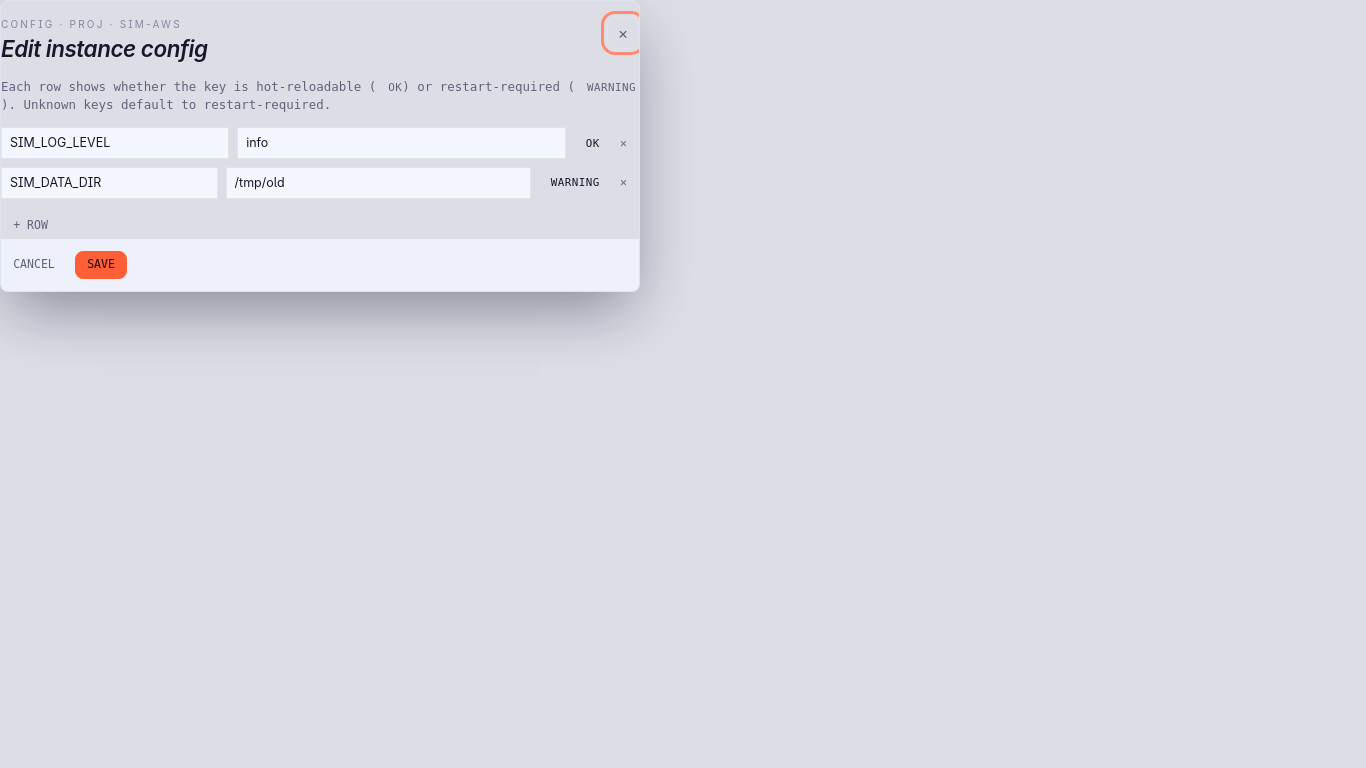
Test: ConfigEditModal › save → server classifies → UI offers Restart for restart-required change
// Edit the SIM_DATA_DIR value field.
Replace the text in the 4th field showing "/tmp/old" with "/tmp/new" at (378, 183), box [226, 167, 531, 199]
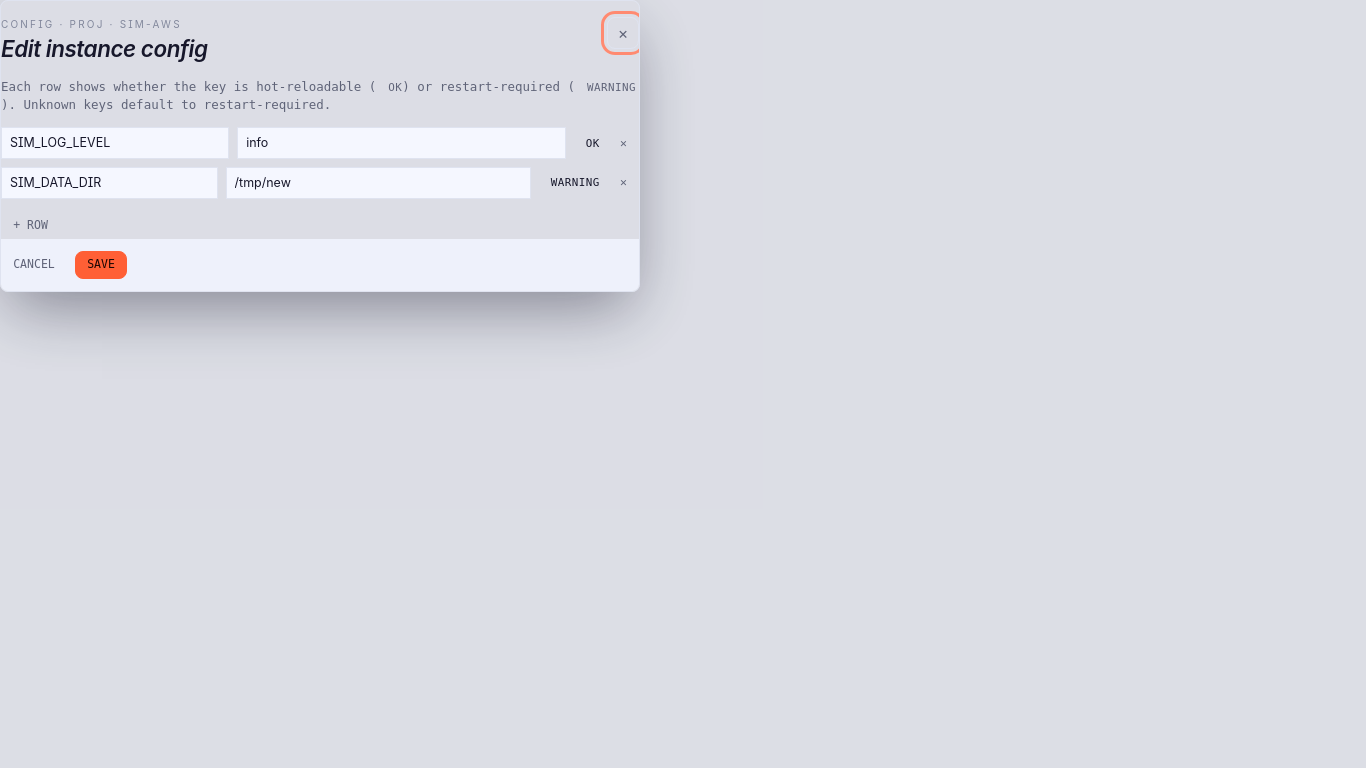
Click the button "Save" at (101, 265), box [75, 251, 127, 279]
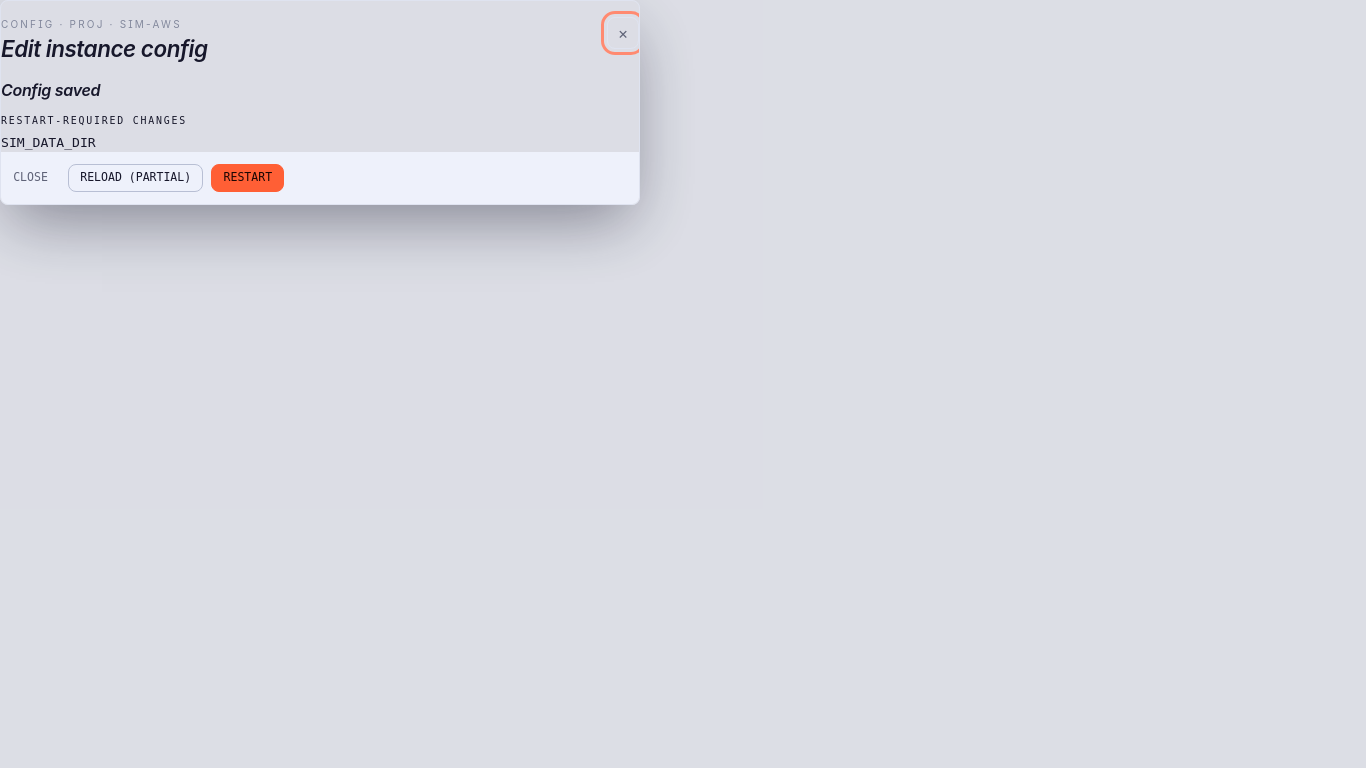
Result: the text "Config saved" is shown at [1, 80, 100, 100]
Result: the text "restart-required changes" is shown at [1, 115, 187, 126]
Result: the button "Reload (partial)" is shown at [68, 164, 203, 192]
